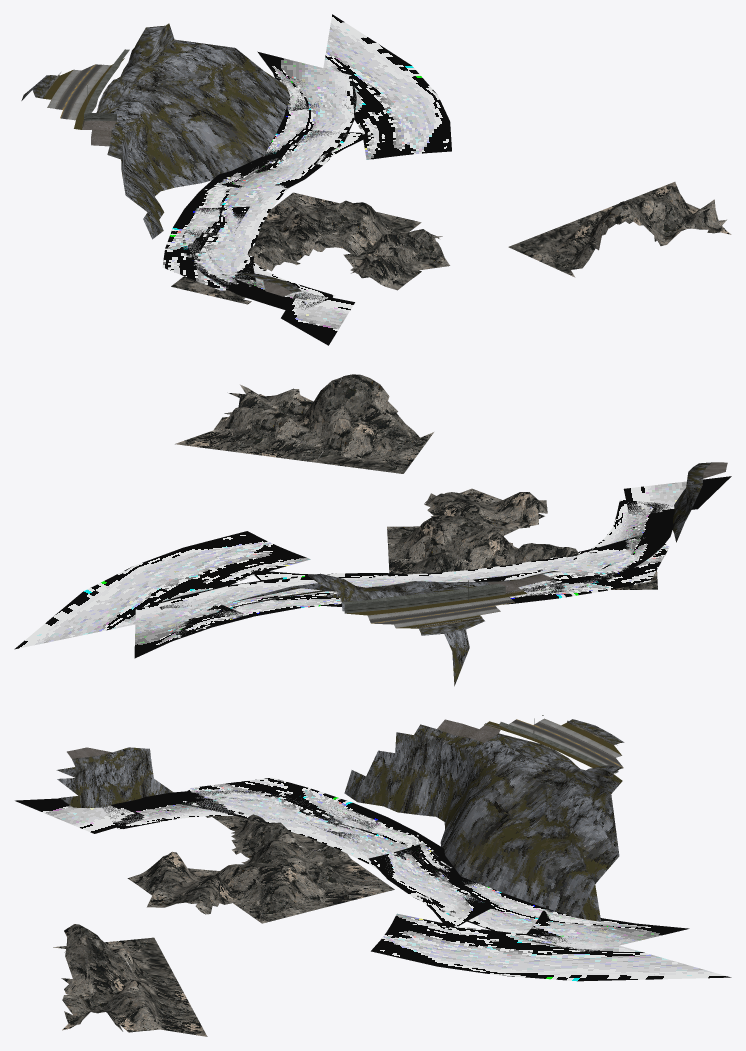
File: world_camden_16_-12.gltf
3 renders of one model, top to bottom at view 1: azimuth 30°, elevation 25°; view 2: azimuth 150°, elevation 25°; view 3: azimuth 270°, elevation 25°, orthographic. The views are drawn at different scales.
Bounding box in the file's own units: 274 × 53.12 × 334.
Materials: 14 (14 with a texture image).
